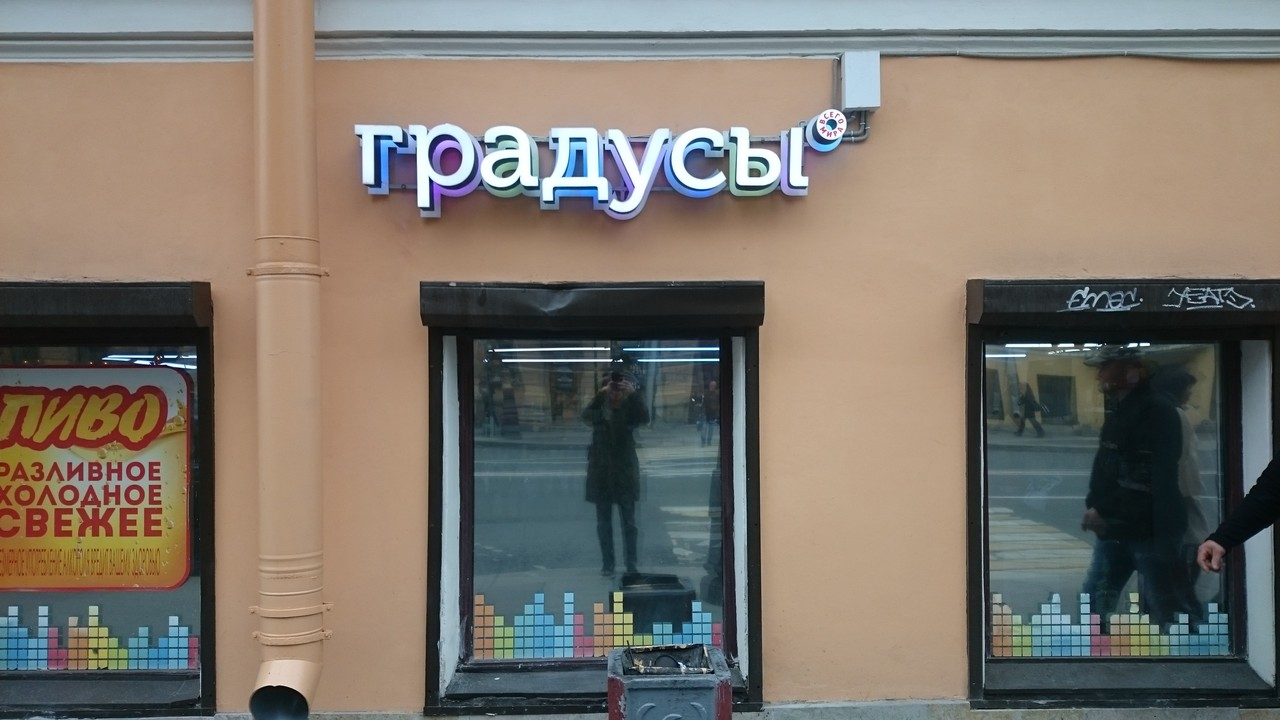signboard: (352, 109, 847, 217)
window: (428, 316, 755, 710), (972, 327, 1257, 692), (1, 338, 215, 700)
